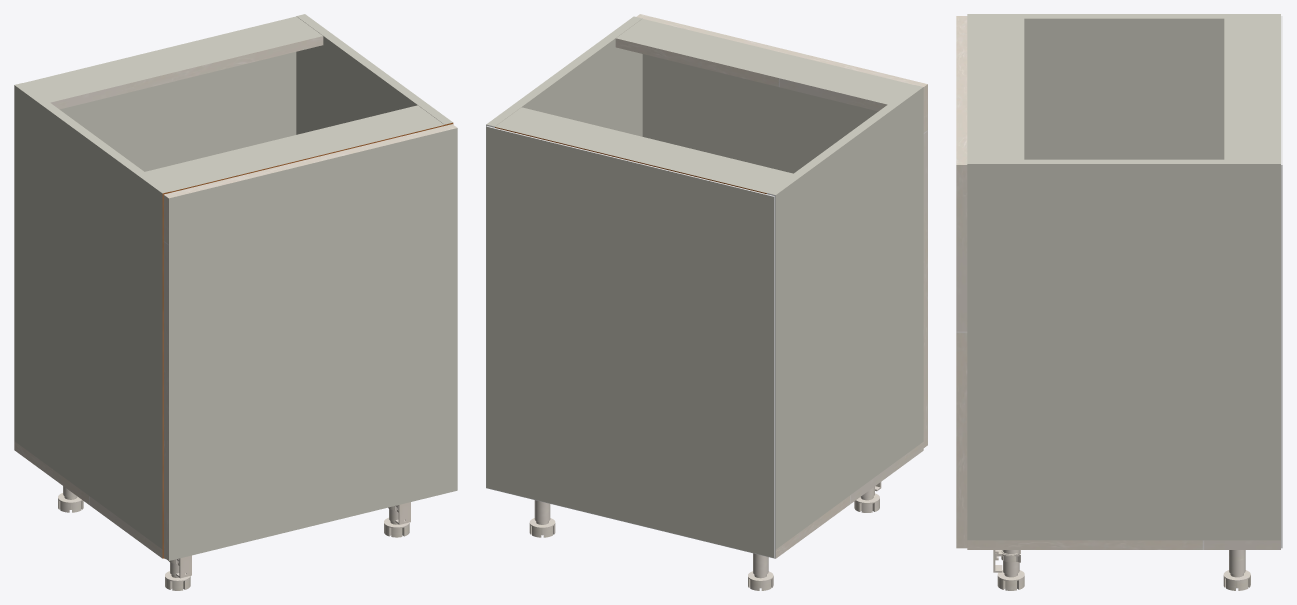
File: МН600(720)1лев_530.glb
The picture shows the model from 3 angles, left to right: view 1: azimuth 30°, elevation 25°; view 2: azimuth 150°, elevation 25°; view 3: azimuth 270°, elevation 25°; orthographic projection. The views are drawn at different scales.
Visible parts, largest first — view 1: МН600(720)1лев_530.001, МН600(720)1лев_530; view 2: МН600(720)1лев_530, МН600(720)1лев_530.001; view 3: МН600(720)1лев_530, МН600(720)1лев_530.001.
Boxes of the visible parts, bbox=[...] form: МН600(720)1лев_530.001: bbox=[163, 124, 457, 560]; МН600(720)1лев_530: bbox=[14, 14, 453, 590]; МН600(720)1лев_530: bbox=[486, 16, 923, 590]; МН600(720)1лев_530.001: bbox=[636, 14, 927, 447]; МН600(720)1лев_530: bbox=[967, 14, 1282, 590]; МН600(720)1лев_530.001: bbox=[956, 16, 967, 548].
Size of the model in its own units: 6 by 8.2 by 5.52.
Materials: 6 (3 with a texture image).
